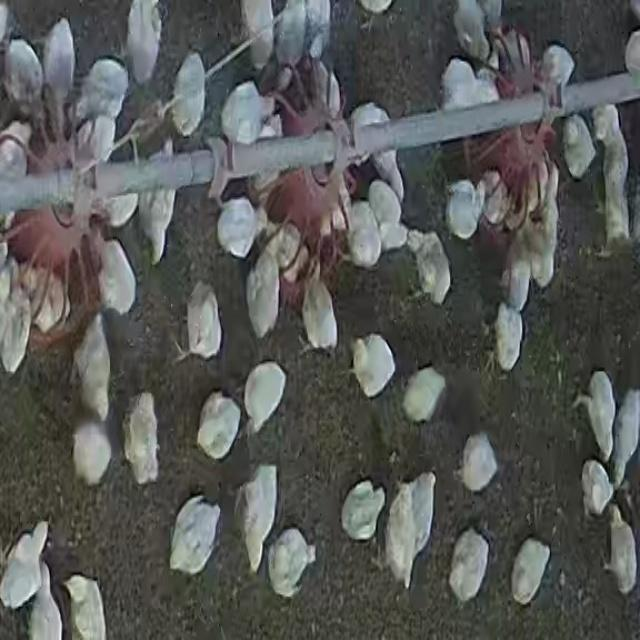chicken: (383, 474, 438, 586), (354, 102, 404, 204), (168, 494, 222, 577), (0, 522, 50, 610), (74, 316, 114, 424), (237, 466, 278, 570), (75, 55, 129, 129), (573, 371, 616, 463), (123, 392, 163, 486), (179, 280, 224, 363), (242, 362, 288, 440), (267, 526, 316, 596), (246, 247, 282, 342), (97, 236, 138, 318), (4, 36, 45, 118), (439, 57, 499, 113), (448, 527, 492, 603), (138, 182, 178, 265), (195, 393, 242, 463), (409, 231, 451, 309), (125, 1, 164, 85), (169, 50, 207, 136), (71, 418, 116, 490), (219, 80, 268, 146), (42, 19, 76, 114), (0, 274, 32, 374), (512, 220, 559, 288), (602, 504, 637, 594), (298, 267, 334, 354), (609, 388, 640, 486), (509, 536, 552, 606), (27, 266, 71, 331), (63, 574, 108, 637), (240, 1, 277, 76), (216, 197, 260, 260), (450, 2, 492, 67), (346, 200, 383, 269), (402, 370, 447, 426), (488, 304, 522, 378), (459, 432, 500, 493), (444, 179, 485, 240), (340, 484, 386, 538), (273, 0, 309, 69), (354, 336, 393, 399), (562, 114, 598, 179), (266, 224, 309, 278), (540, 42, 576, 104), (73, 116, 111, 169), (580, 460, 613, 517), (482, 170, 511, 228), (502, 253, 532, 308), (0, 119, 26, 181), (368, 179, 402, 222), (104, 192, 140, 230), (382, 221, 405, 254)
